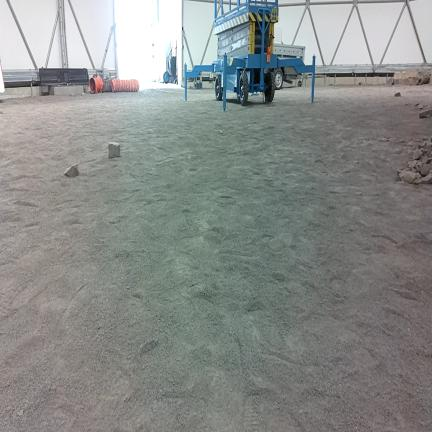Rock: (394, 69, 430, 85), (400, 170, 421, 183), (109, 142, 120, 158), (414, 174, 431, 184), (65, 165, 78, 177), (420, 163, 431, 176), (408, 160, 418, 172), (413, 149, 422, 159), (420, 110, 431, 118), (386, 78, 393, 86), (16, 409, 24, 416), (420, 156, 428, 163), (397, 170, 402, 181), (395, 92, 400, 96), (419, 105, 424, 109), (358, 82, 362, 86), (220, 130, 223, 134), (416, 103, 419, 106)
